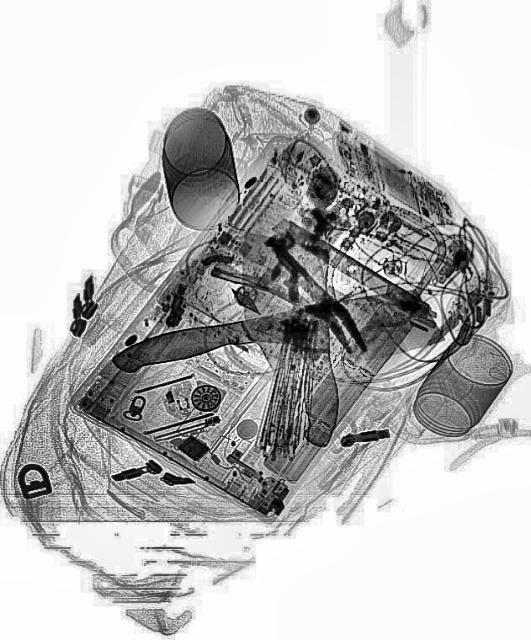Knife: (108, 280, 446, 402), (242, 227, 338, 448)
